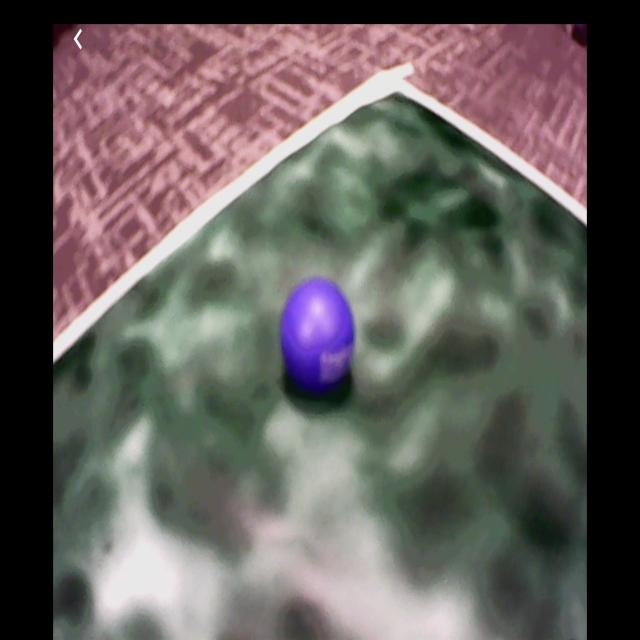ball: (281, 276, 356, 390)
